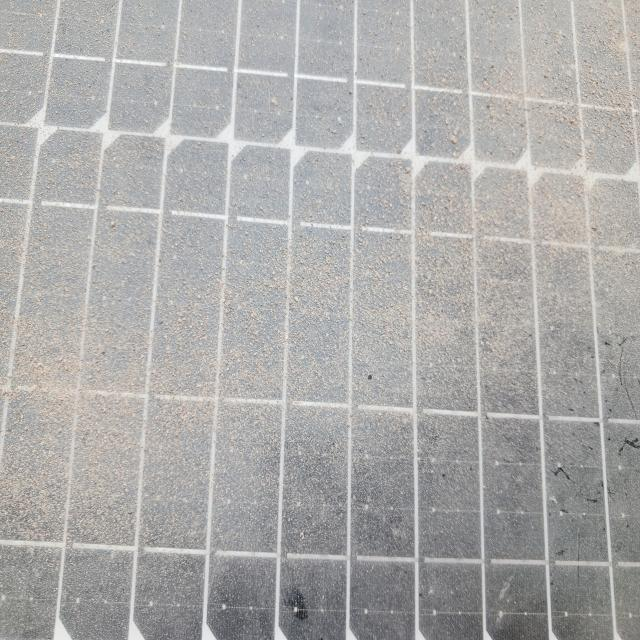Anomaly Solar Panel: (2, 2, 640, 637)
Surface Contaminant: (164, 48, 639, 632)
